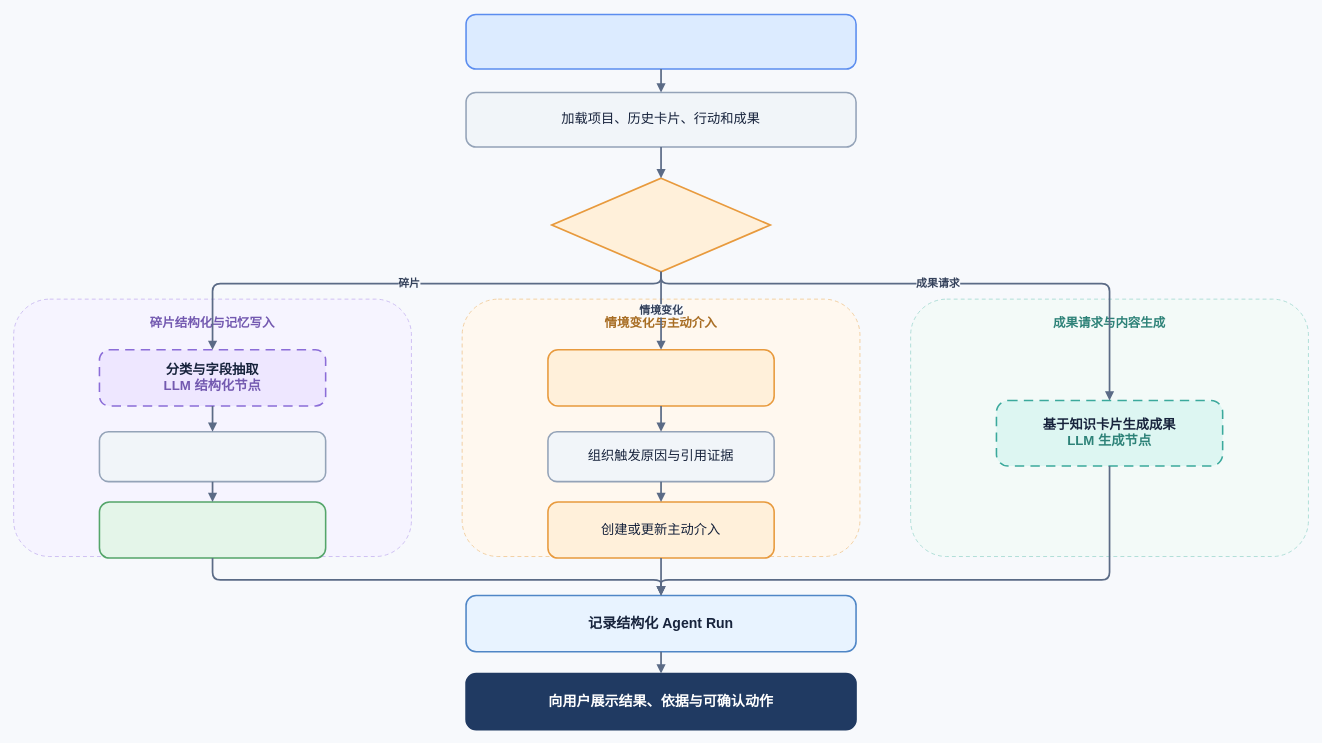
This 1322x743 diagram has some shape labels left out. The shapes that lost their labels are listed below. From the top down, each one's centre as x and y in pixels, then its label:
point 660,41: 文本碎片或项目情境
point 661,224: Workflow 路由
point 661,377: 本地规则评估
point 212,456: 检索相关历史卡片
point 212,529: 事务保存 Capture / Card / Relation
